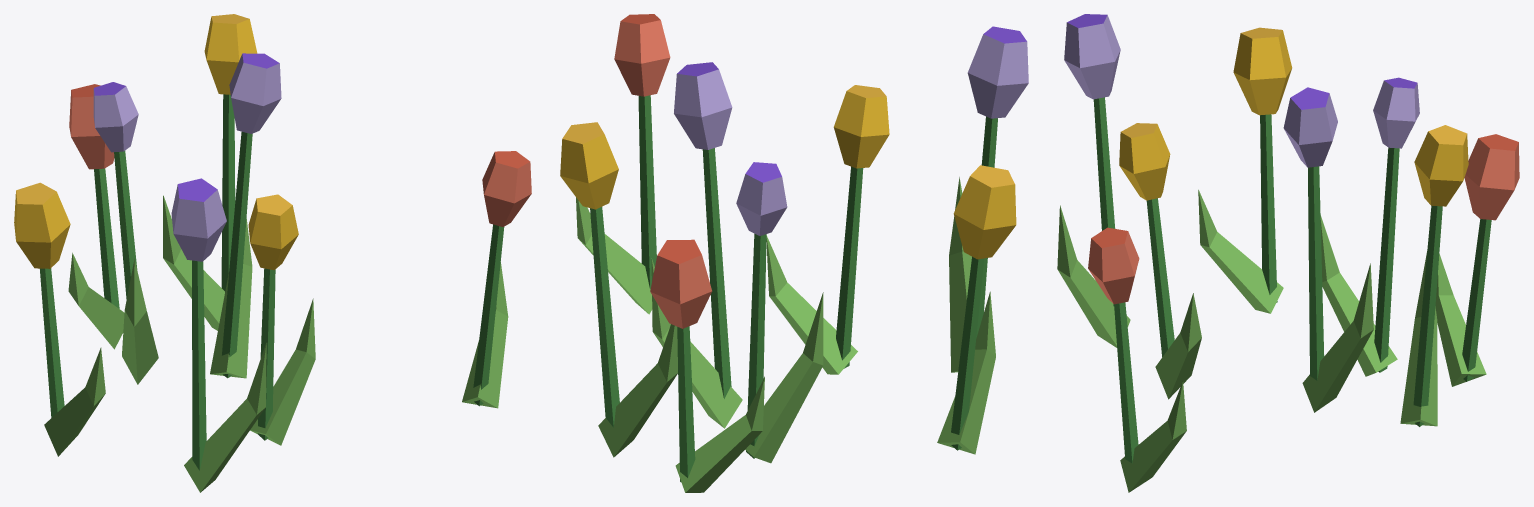
Rendered from flower_patch_b.glb.
3 renders of one model, left to right at view 1: azimuth 30°, elevation 25°; view 2: azimuth 150°, elevation 25°; view 3: azimuth 270°, elevation 25°, orthographic. The views are drawn at different scales.
Visible parts, largest first — view 1: flower_patch_b; view 2: flower_patch_b; view 3: flower_patch_b.
Part boxes in pixels (<box>): flower_patch_b: <box>14,14,531,492</box>; flower_patch_b: <box>560,14,1028,492</box>; flower_patch_b: <box>1057,14,1519,492</box>.
Bounding box in the file's own units: 0.7256 × 0.5023 × 0.6414.
